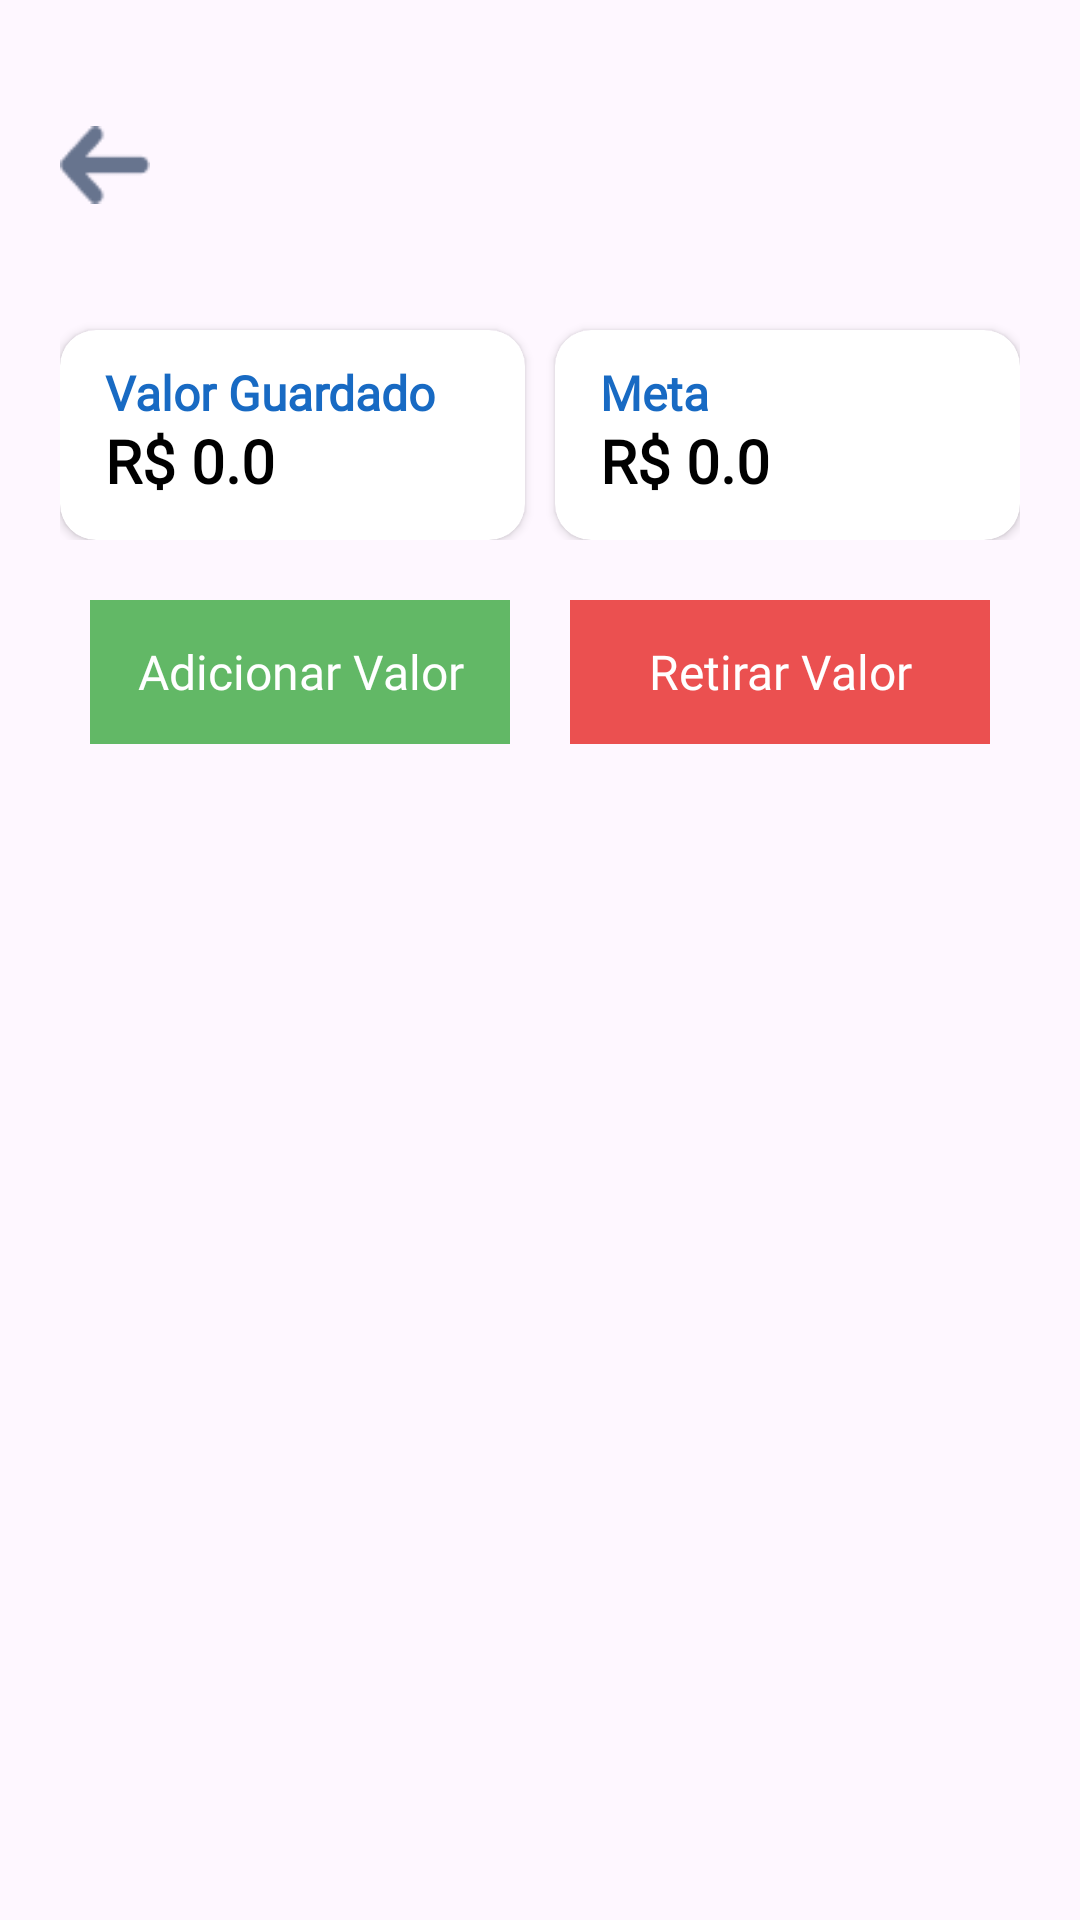

Screen size 1080 x 1920. Icon name, then its box in pixels as box=[x1, y1, x2, y2]:
arrow left: box=[60, 126, 150, 204]
